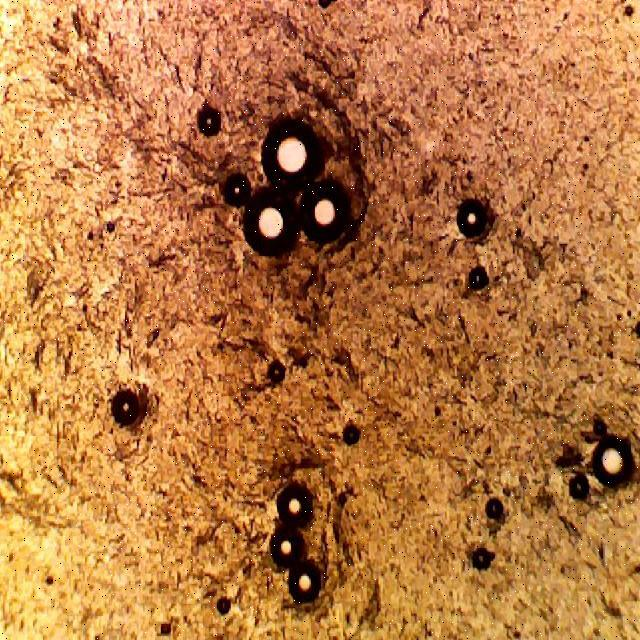microbeads: (453, 197, 491, 247), (108, 388, 144, 428)
